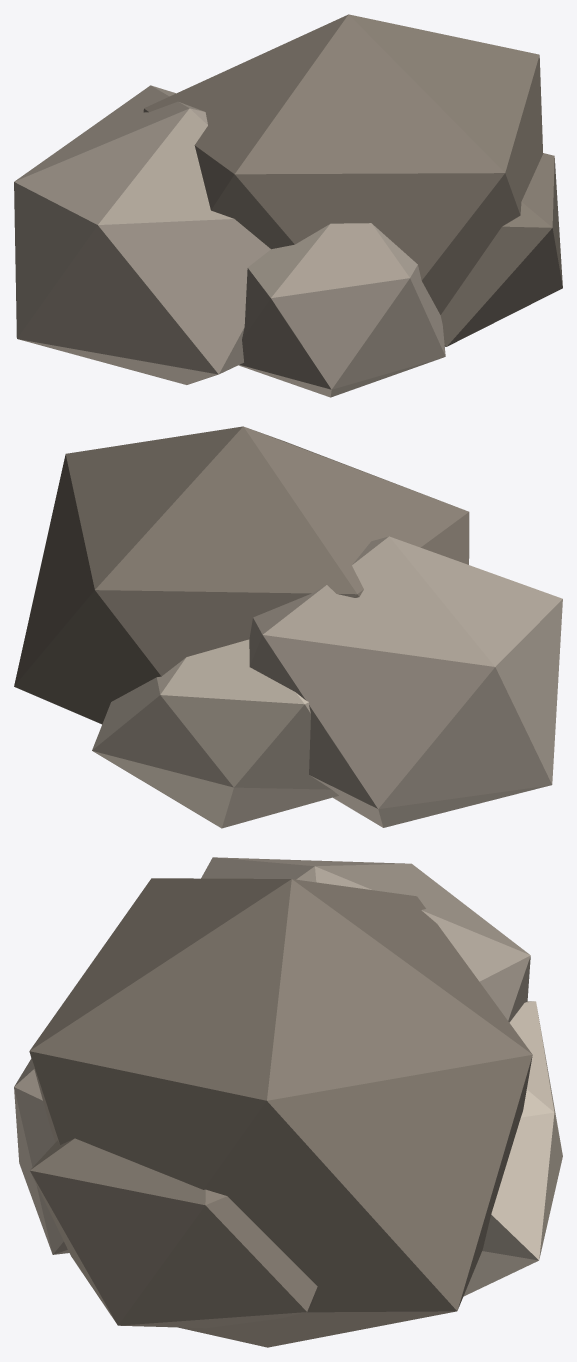
File: hd_rockpile.gltf
The picture shows the model from 3 angles, top to bottom: view 1: azimuth 30°, elevation 25°; view 2: azimuth 150°, elevation 25°; view 3: azimuth 270°, elevation 25°; orthographic projection. The views are drawn at different scales.
Parts seen in each view (by area): view 1: r4, r0, r3, r1; view 2: r4, r0, r2; view 3: r4, r1, r0, r2, r3.
Part boxes in pixels (x1=…): r4: x1=143, y1=14, x2=543, y2=314; r0: x1=14, y1=85, x2=270, y2=384; r3: x1=238, y1=223, x2=445, y2=397; r1: x1=440, y1=153, x2=562, y2=346; r4: x1=14, y1=426, x2=469, y2=724; r0: x1=249, y1=536, x2=562, y2=827; r2: x1=92, y1=639, x2=338, y2=828; r4: x1=29, y1=878, x2=532, y2=1347; r1: x1=30, y1=1138, x2=317, y2=1328; r0: x1=201, y1=857, x2=530, y2=1022; r2: x1=463, y1=1001, x2=562, y2=1296; r3: x1=14, y1=1059, x2=69, y2=1254.
Bounding box in the file's own units: 1.41 × 0.9824 × 1.01.
